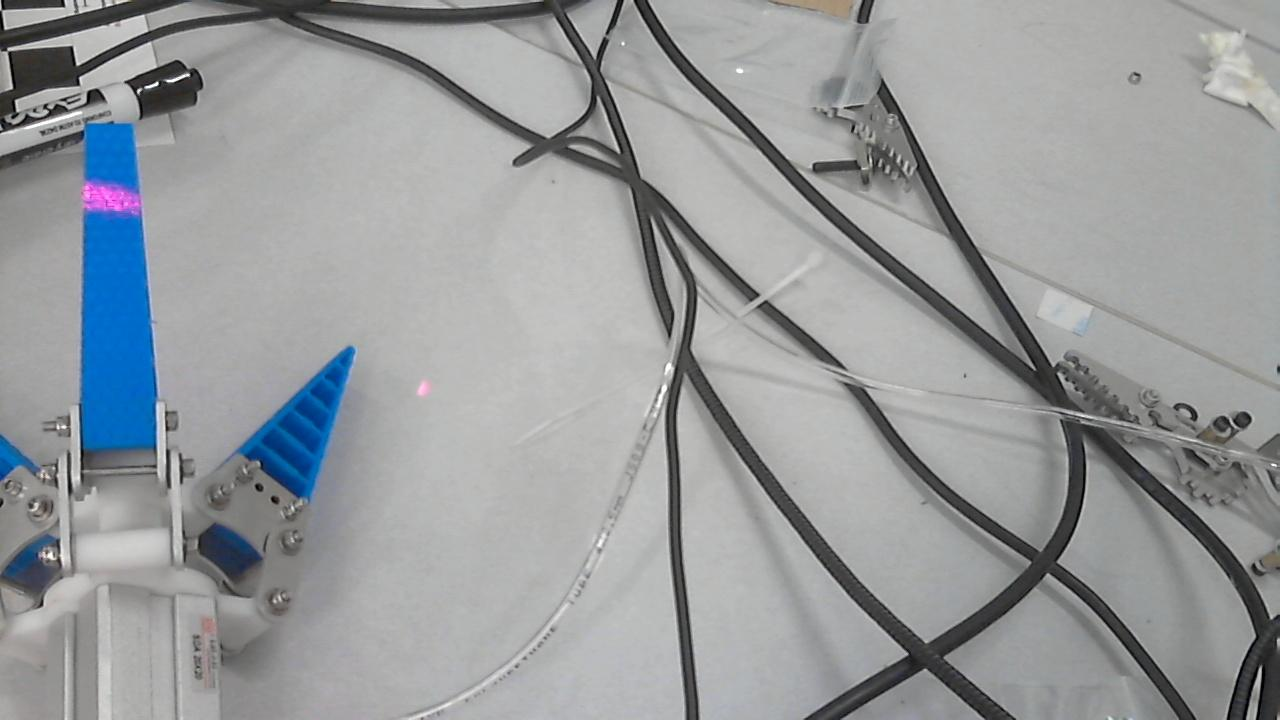Object rubber duck - Material rubber -Color blue - Pdfname BWuUnwTLudUE: (70, 169, 198, 252)
